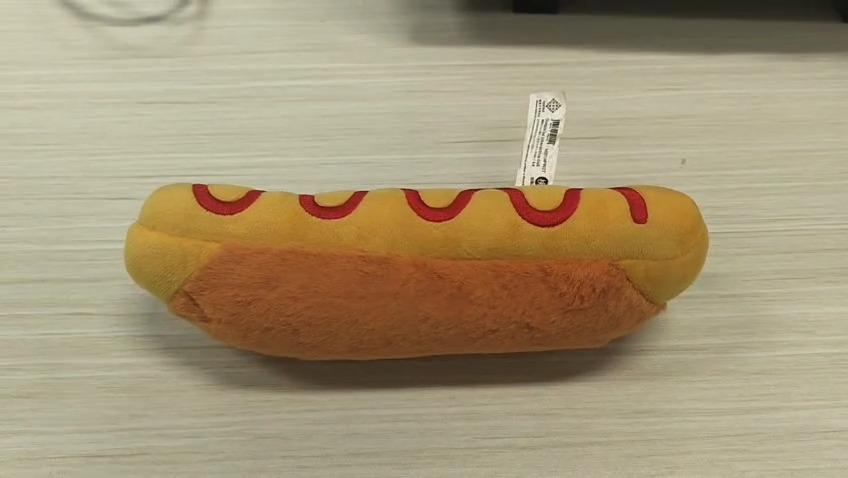hotdog: (123, 186, 709, 362)
